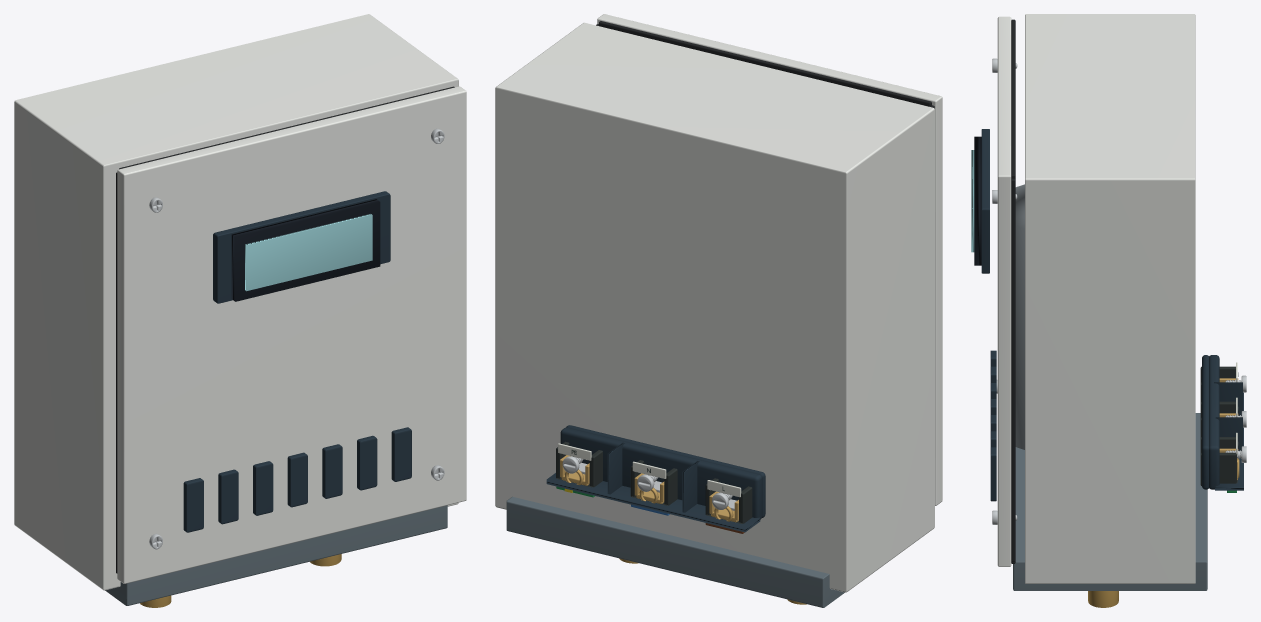
Rendered from boiler_default.glb.
3 renders of one model, left to right at view 1: azimuth 30°, elevation 25°; view 2: azimuth 150°, elevation 25°; view 3: azimuth 270°, elevation 25°, orthographic. The views are drawn at different scales.
Visible parts, largest first — view 1: part:cover, part:body, part:cover · Original a463fd81, part:display, detail:enclosure-gasket-and-fixings · Detail rubber gasket, detail:enclosure-gasket-and-fixings · Detail zinc plated fix; view 2: part:body, part:terminals · Original a463fd81, part:cover, detail:enclosure-gasket-and-fixings · Detail rubber gasket, detail:terminal-clamp:N · Detail moulded engineering polymer, detail:terminal-clamp:L · Detail moulded engineering polymer, detail:terminal-clamp:PE · Detail moulded engineering polyme; view 3: part:body, part:cover, part:terminals · Original a463fd81, detail:enclosure-gasket-and-fixings · Detail rubber gasket, part:body.002, part:cover · Original a463fd81, part:display, detail:terminal-clamp:PE · Detail moulded engineering polyme, part:body.003 · Original df732090.
Boxes of the visible parts, x1=… form: part:cover: x1=117, y1=86, x2=466, y2=583; part:body: x1=14, y1=14, x2=458, y2=605; part:cover · Original a463fd81: x1=183, y1=191, x2=411, y2=532; part:display: x1=231, y1=199, x2=380, y2=301; detail:enclosure-gasket-and-fixings · Detail rubber gasket: x1=116, y1=86, x2=454, y2=573; detail:enclosure-gasket-and-fixings · Detail zinc plated fix: x1=149, y1=128, x2=444, y2=549; part:body: x1=495, y1=22, x2=934, y2=607; part:terminals · Original a463fd81: x1=546, y1=425, x2=765, y2=532; part:cover: x1=597, y1=14, x2=942, y2=505; detail:enclosure-gasket-and-fixings · Detail rubber gasket: x1=596, y1=21, x2=934, y2=108; detail:terminal-clamp:N · Detail moulded engineering polymer: x1=630, y1=460, x2=677, y2=505; detail:terminal-clamp:L · Detail moulded engineering polymer: x1=705, y1=478, x2=752, y2=523; detail:terminal-clamp:PE · Detail moulded engineering polyme: x1=556, y1=441, x2=602, y2=487; part:body: x1=1013, y1=14, x2=1207, y2=590; part:cover: x1=997, y1=16, x2=1011, y2=566; part:terminals · Original a463fd81: x1=1202, y1=355, x2=1243, y2=490; detail:enclosure-gasket-and-fixings · Detail rubber gasket: x1=1011, y1=19, x2=1015, y2=563; part:body.002: x1=1015, y1=184, x2=1024, y2=449; part:cover · Original a463fd81: x1=981, y1=129, x2=996, y2=501; part:display: x1=971, y1=136, x2=981, y2=265; detail:terminal-clamp:PE · Detail moulded engineering polyme: x1=1200, y1=437, x2=1237, y2=485; part:body.003 · Original df732090: x1=1088, y1=591, x2=1118, y2=607.
Size of the model in its own units: 1.22 by 1.6 by 0.8558.
